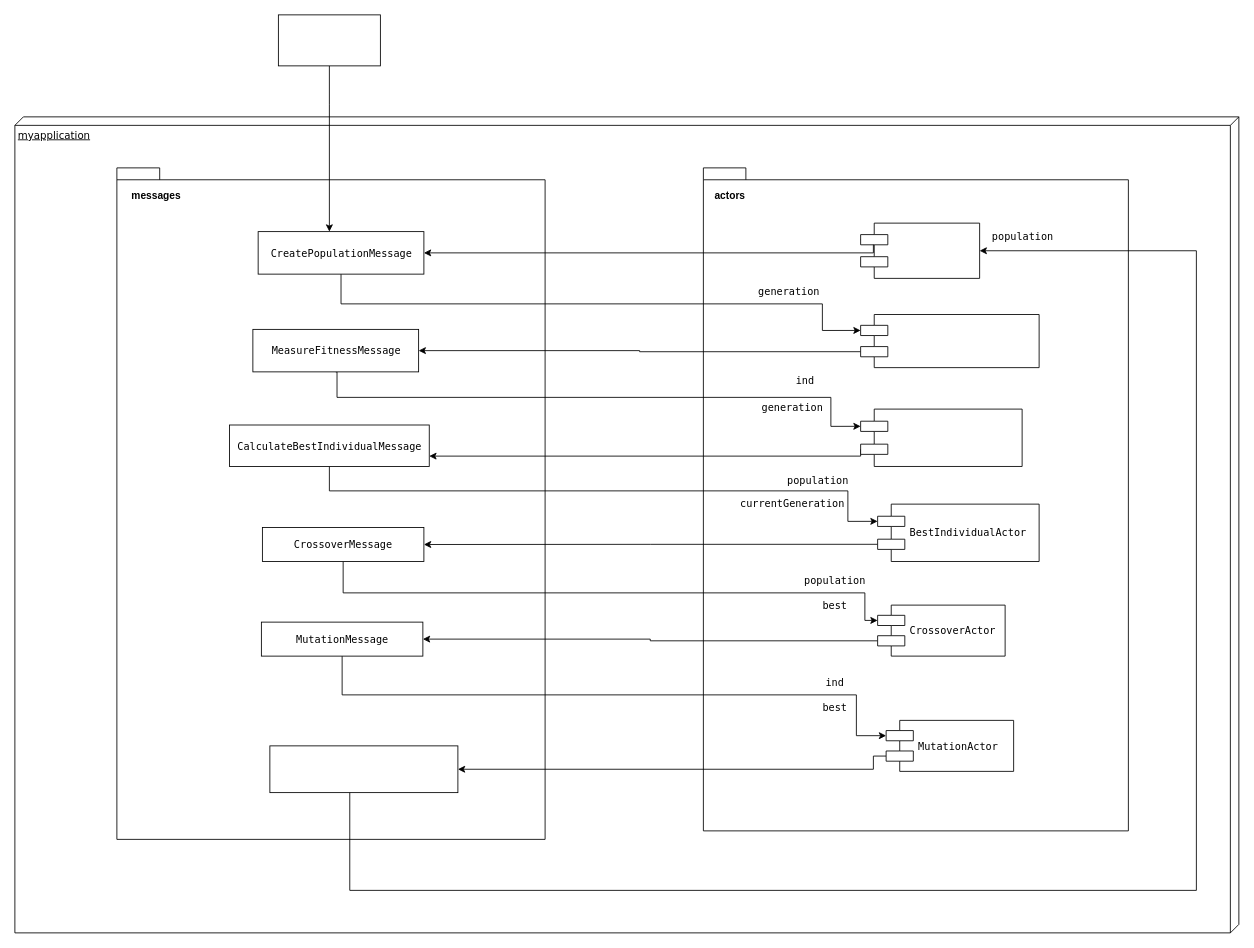
This 1254x948 diagram has some shape labels left out. Here are the shapes that lost their labels. From the top down, the centre of each, then its label:
At point 329,40: "App".
At point 920,250: "KnapsackActor".
At point 949,341: "CreatePopulationActor".
At point 941,437: "MeasureFitnessActor".
At point 363,769: "GenerationCompletedMessage".
